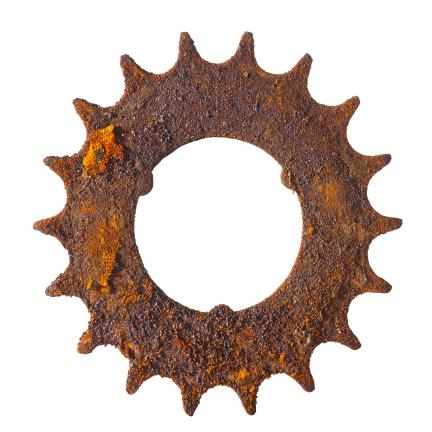karat: (34, 32, 401, 415)
